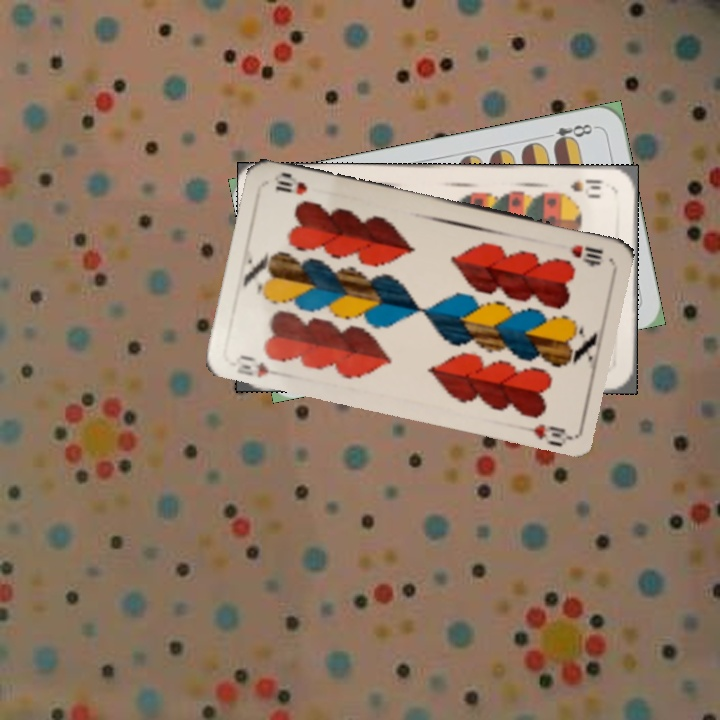E8: (540, 120, 599, 148)
H10: (233, 350, 272, 380), (567, 240, 606, 265)
S10: (566, 175, 606, 194)
